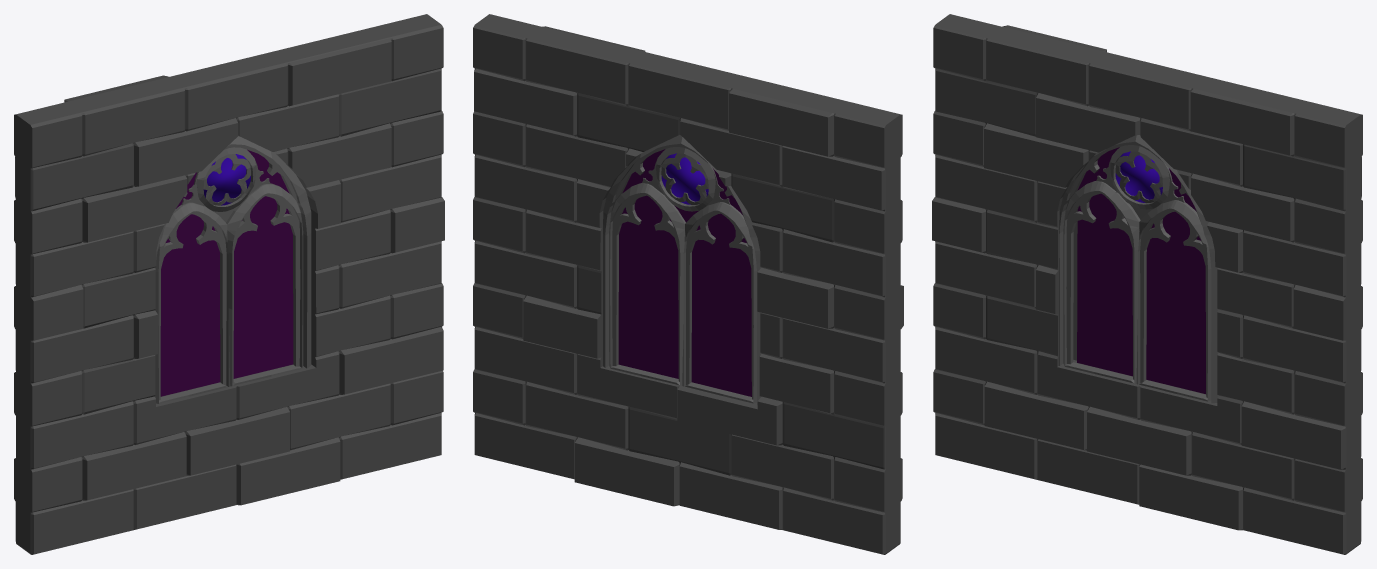
The model's file is Wall_Window_1.fbx.
3 renders of one model, left to right at view 1: azimuth 30°, elevation 25°; view 2: azimuth 150°, elevation 25°; view 3: azimuth 330°, elevation 25°, orthographic.
Visible parts, largest first — view 1: Plane.002; view 2: Plane.002; view 3: Plane.002.
Boxes of the visible parts, box(x1,y1,x2,y2) form: Plane.002: box(14, 14, 444, 554); Plane.002: box(473, 14, 903, 554); Plane.002: box(932, 14, 1362, 554).
Bounding box in the file's own units: 400 × 400 × 40.
